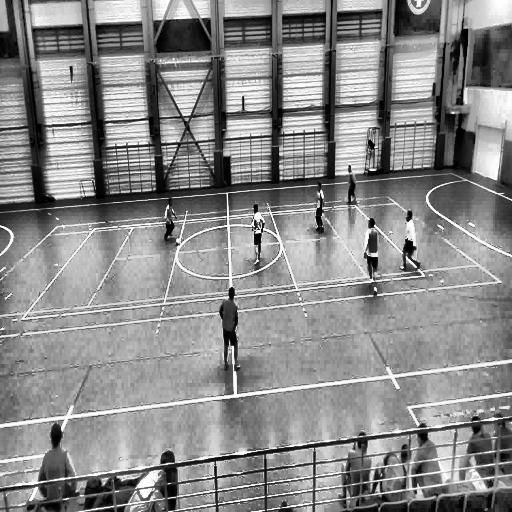ball: (174, 236, 182, 246)
player: (339, 432, 372, 508), (220, 284, 240, 372), (363, 218, 379, 295), (401, 209, 418, 271), (252, 202, 264, 270), (163, 198, 176, 242), (314, 180, 324, 232), (347, 164, 357, 205)
